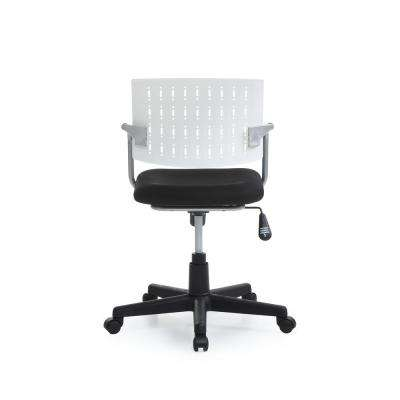chairs: (104, 74, 298, 353)
